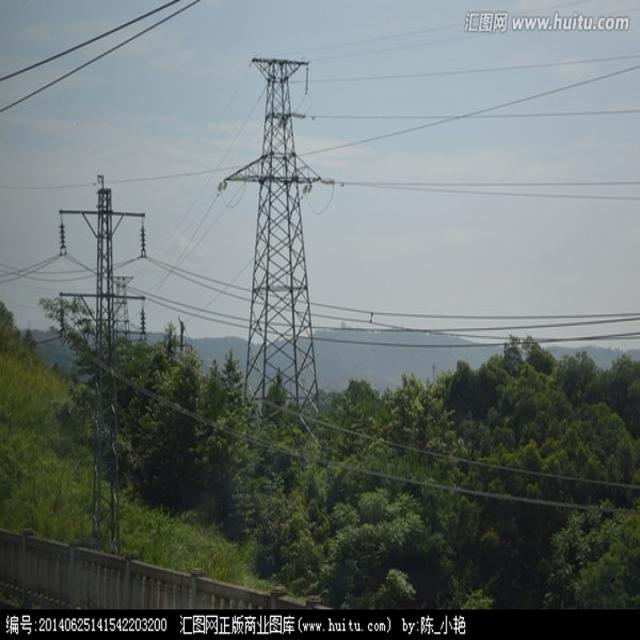non-critical vegetation: (215, 42, 334, 394)
utility poles: (29, 294, 113, 535)
